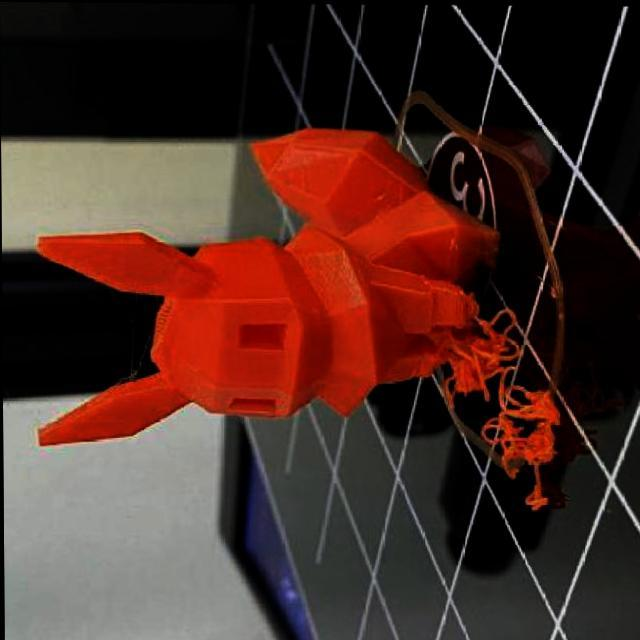spaghetti: (438, 306, 561, 509)
